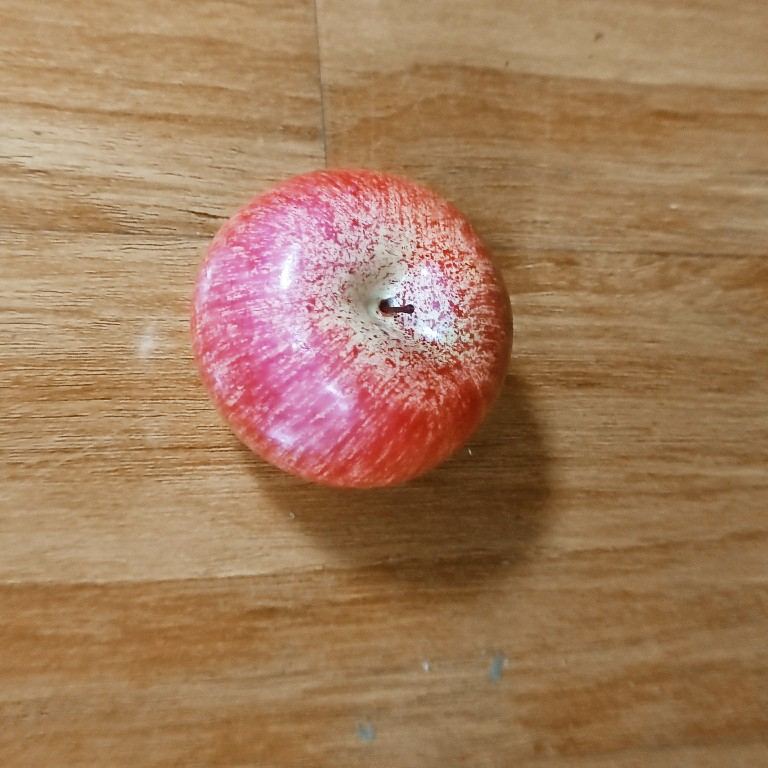fruit_apple: (185, 161, 524, 496)
